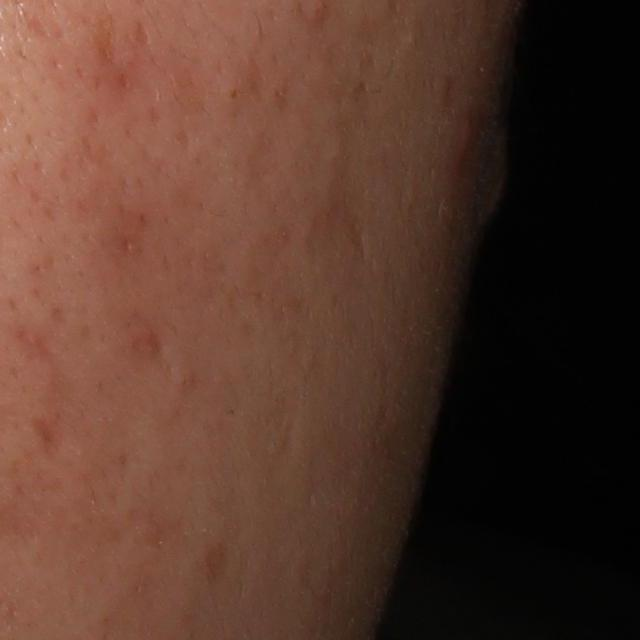atrophic_scar: (19, 316, 86, 454)
papule: (454, 108, 484, 183), (308, 0, 327, 23)
